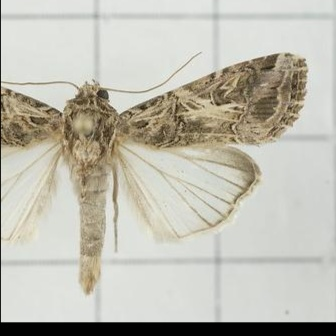Spodoptera litura: (1, 51, 306, 299)
